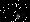person: (21, 11, 26, 22), (18, 10, 22, 19)
